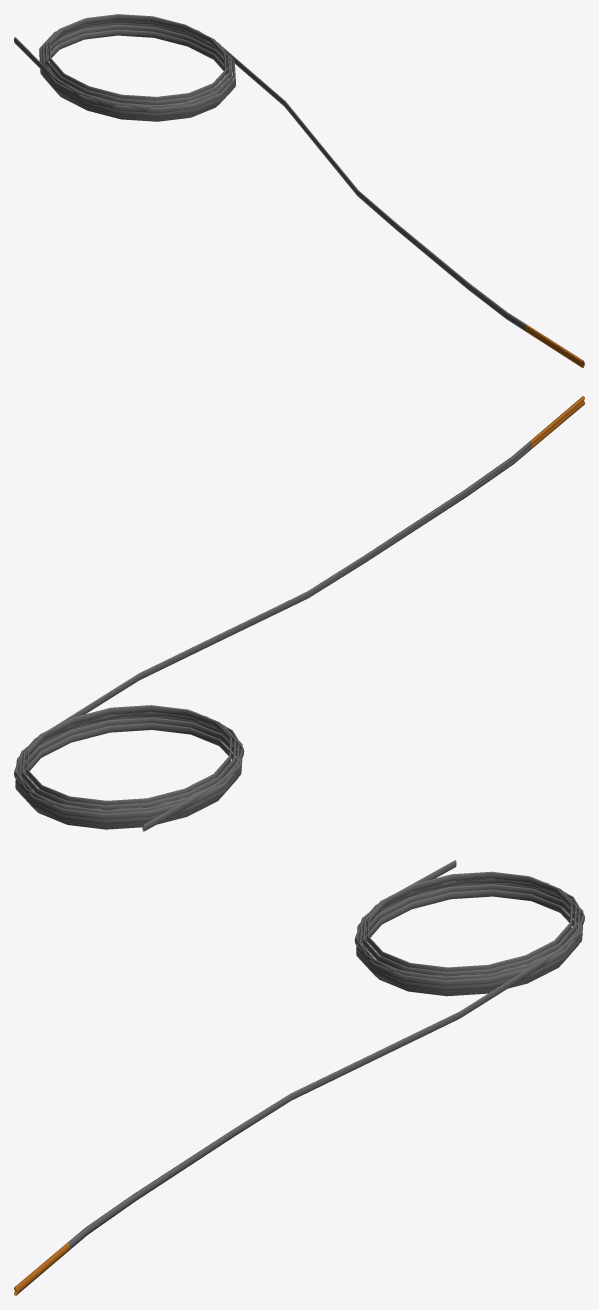
The model's file is WireWhip.fbx.
3 views of the same model, one above another, from view 1: azimuth 30°, elevation 25°; view 2: azimuth 150°, elevation 25°; view 3: azimuth 330°, elevation 25° (orthographic). The views are drawn at different scales.
Visible parts, largest first — view 1: WireWhip; view 2: WireWhip; view 3: WireWhip.
Part boxes in pixels (box(x1,y1,x2,y2)): WireWhip: box(14, 14, 584, 367); WireWhip: box(14, 396, 584, 831); WireWhip: box(14, 860, 584, 1295).
Bounding box in the file's own units: 0.6478 × 0.0876 × 3.26.
